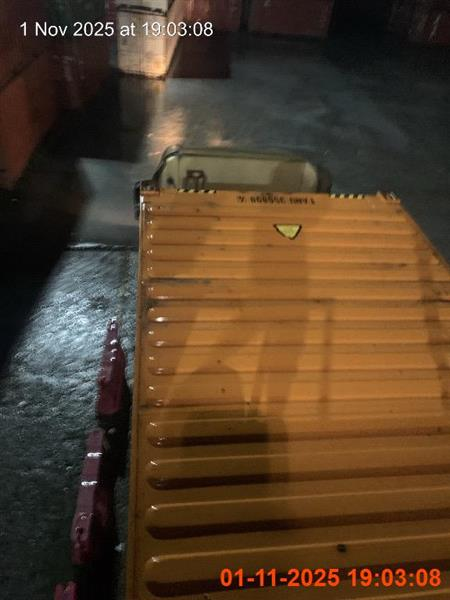hole: (123, 187, 449, 599), (148, 145, 331, 193)
